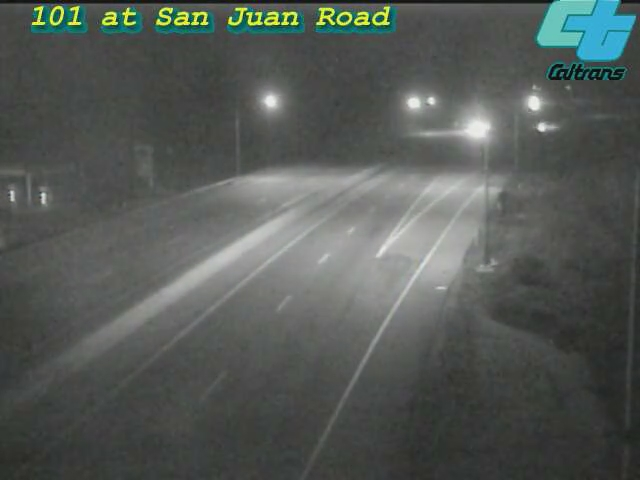vehicle: (449, 105, 499, 155), (515, 101, 565, 151), (511, 79, 561, 129)
